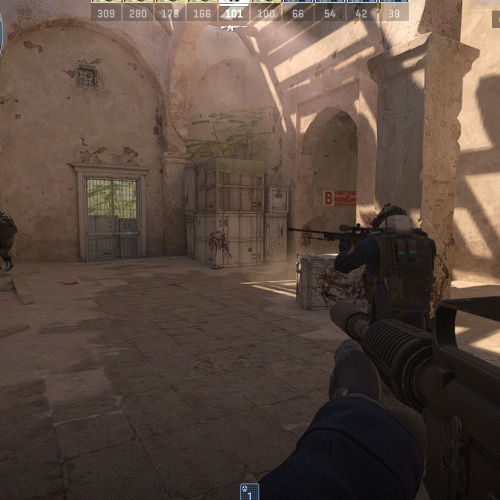ct_body: (340, 205, 435, 334), (0, 210, 18, 273)
ct_head: (375, 202, 412, 232)
